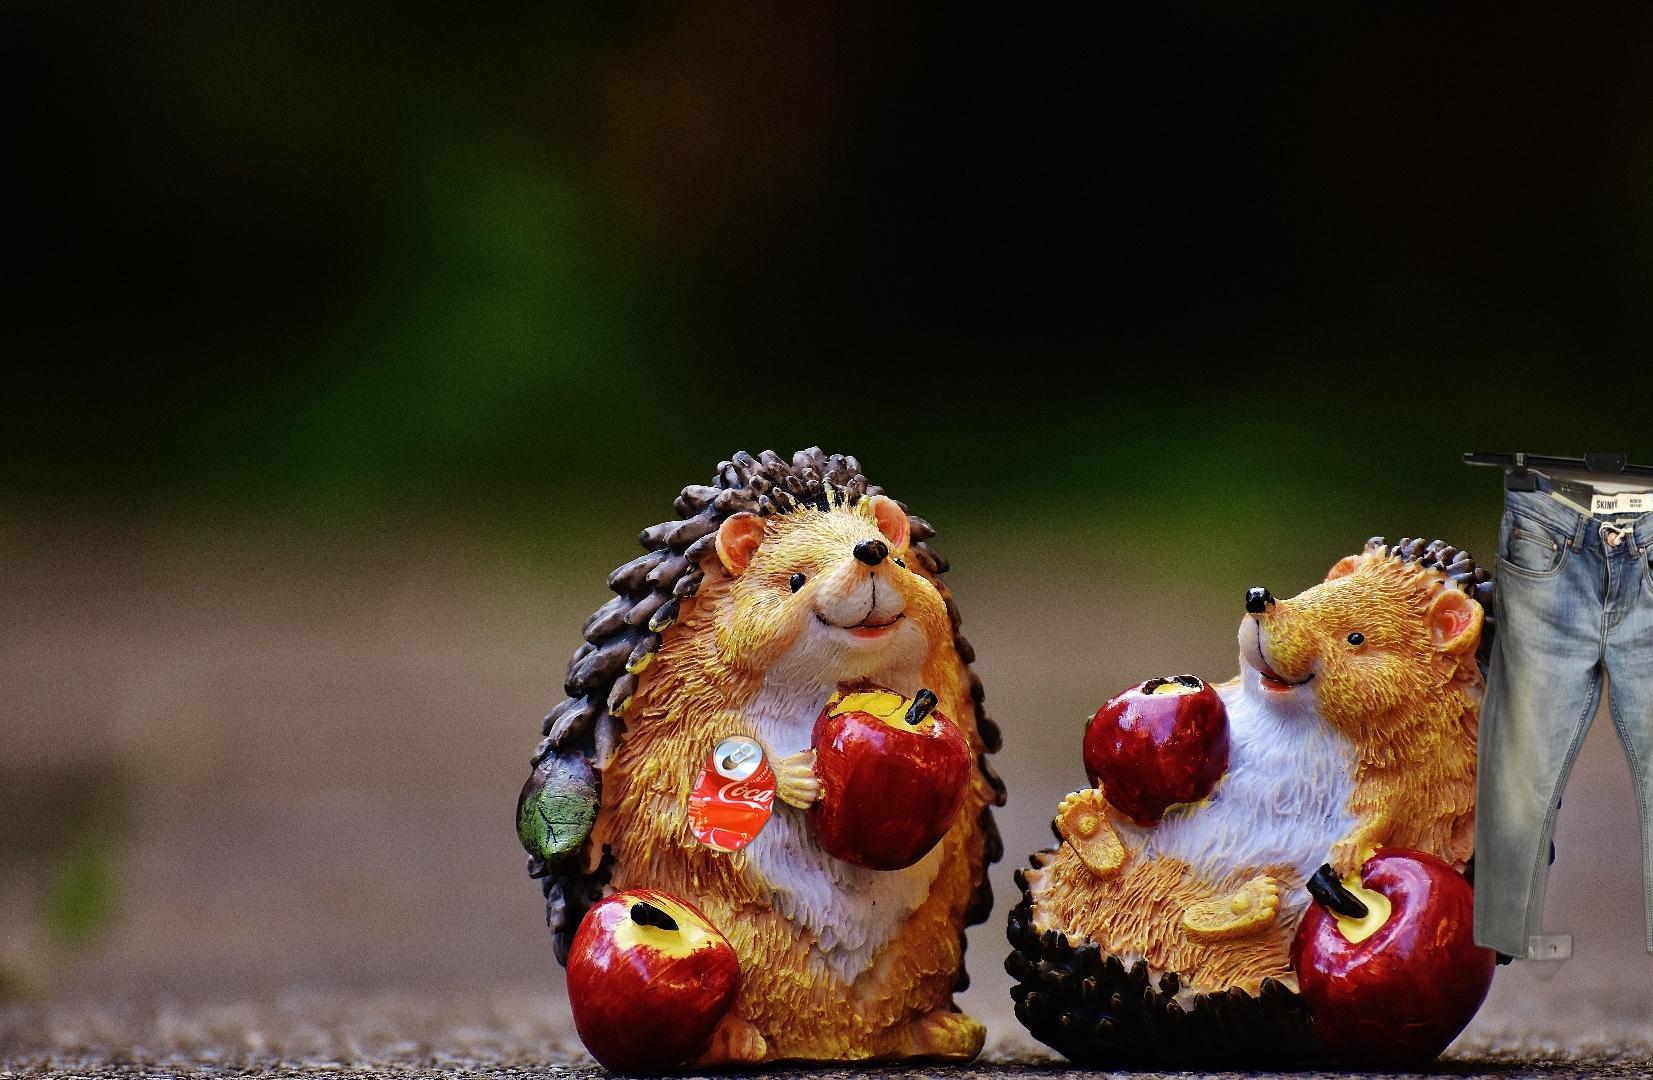clothes: (1453, 453, 1653, 987)
metal-cans: (527, 728, 781, 1029)
